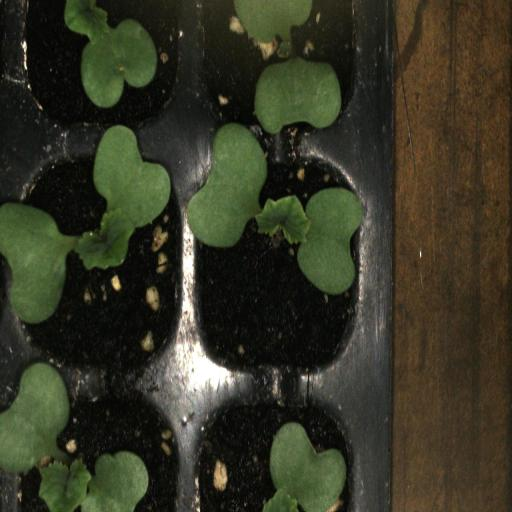seedling: (8, 140, 190, 380), (189, 145, 374, 379), (190, 0, 373, 142), (8, 382, 190, 512)
